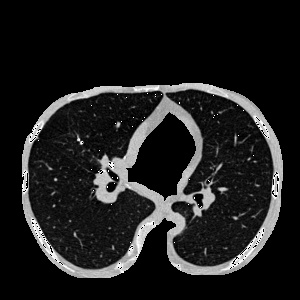PN: (78, 138, 82, 142)
